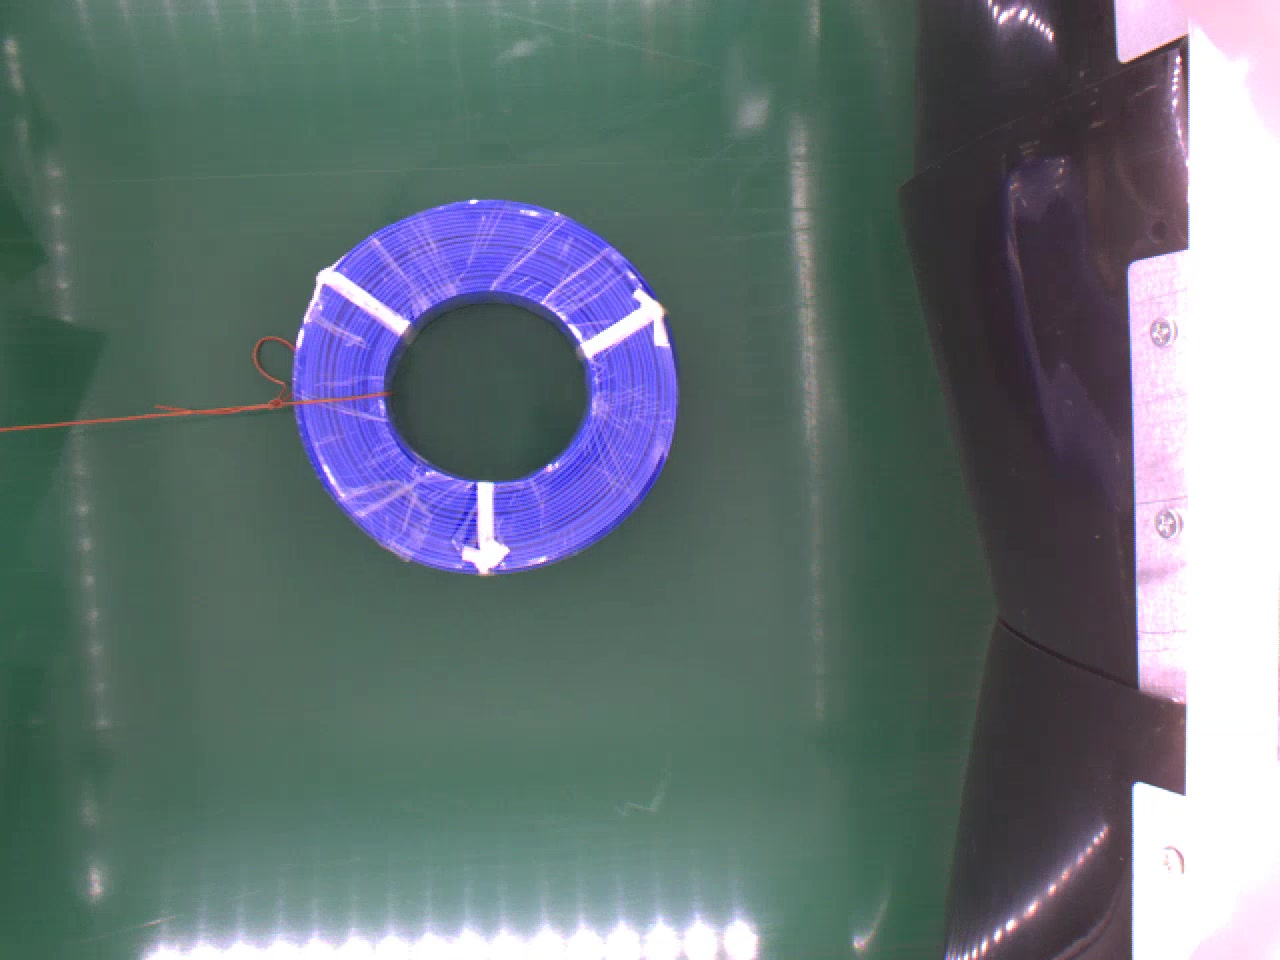blue: (290, 195, 682, 573)
